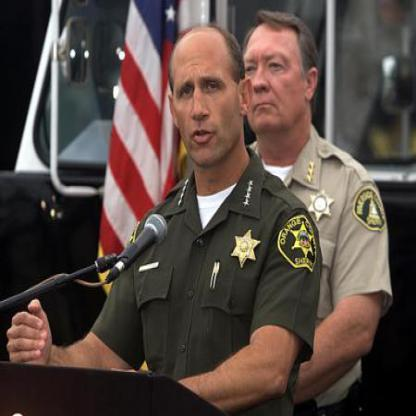face: (171, 31, 243, 167), (243, 14, 308, 141)
